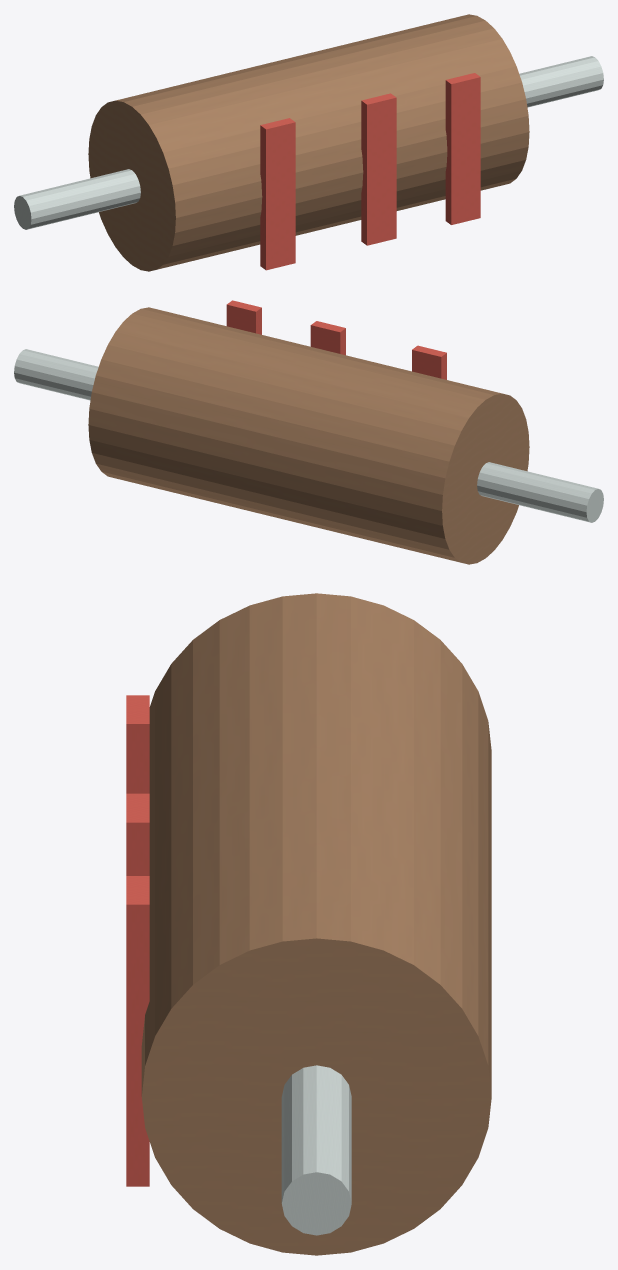
The model's file is resistor.glb.
3 views of the same model, one above another, from view 1: azimuth 30°, elevation 25°; view 2: azimuth 150°, elevation 25°; view 3: azimuth 270°, elevation 25° (orthographic). The views are drawn at different scales.
Visible parts, largest first — view 1: Resistor_Core, Resistor_Band, Resistor_Band.001, Resistor_Band.002, Resistor_Lead, Resistor_Lead.001; view 2: Resistor_Core, Resistor_Lead, Resistor_Lead.001, Resistor_Band.002, Resistor_Band.001, Resistor_Band; view 3: Resistor_Core, Resistor_Lead.001, Resistor_Band.002, Resistor_Band, Resistor_Band.001.
Boxes of the visible parts, box(x1,y1,x2,y2) form: Resistor_Core: box(88, 14, 529, 271); Resistor_Band: box(260, 118, 295, 270); Resistor_Band.001: box(361, 93, 396, 245); Resistor_Band.002: box(445, 73, 480, 224); Resistor_Lead: box(14, 169, 140, 229); Resistor_Lead.001: box(519, 56, 603, 107); Resistor_Core: box(88, 307, 529, 564); Resistor_Lead: box(477, 462, 603, 522); Resistor_Lead.001: box(14, 349, 98, 400); Resistor_Band.002: box(226, 300, 261, 334); Resistor_Band.001: box(310, 321, 345, 355); Resistor_Band: box(412, 345, 446, 379); Resistor_Core: box(141, 593, 491, 1255); Resistor_Lead.001: box(281, 1065, 351, 1235); Resistor_Band.002: box(126, 876, 149, 1186); Resistor_Band: box(126, 695, 149, 793); Resistor_Band.001: box(126, 793, 149, 875).
Bounding box in the file's own units: 0.68 × 0.18 × 0.188.
Materials: 3 (3 with a texture image).
